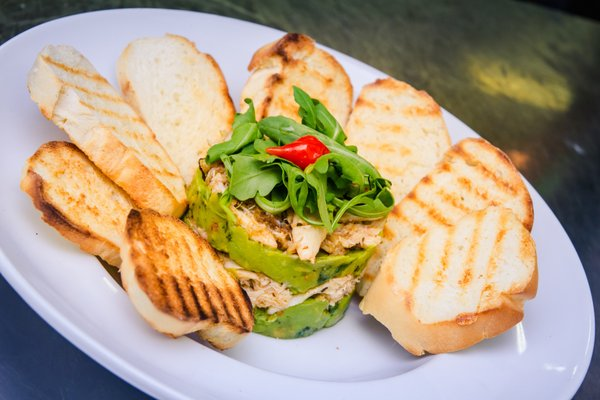soup: (187, 31, 454, 334), (357, 134, 539, 356)
